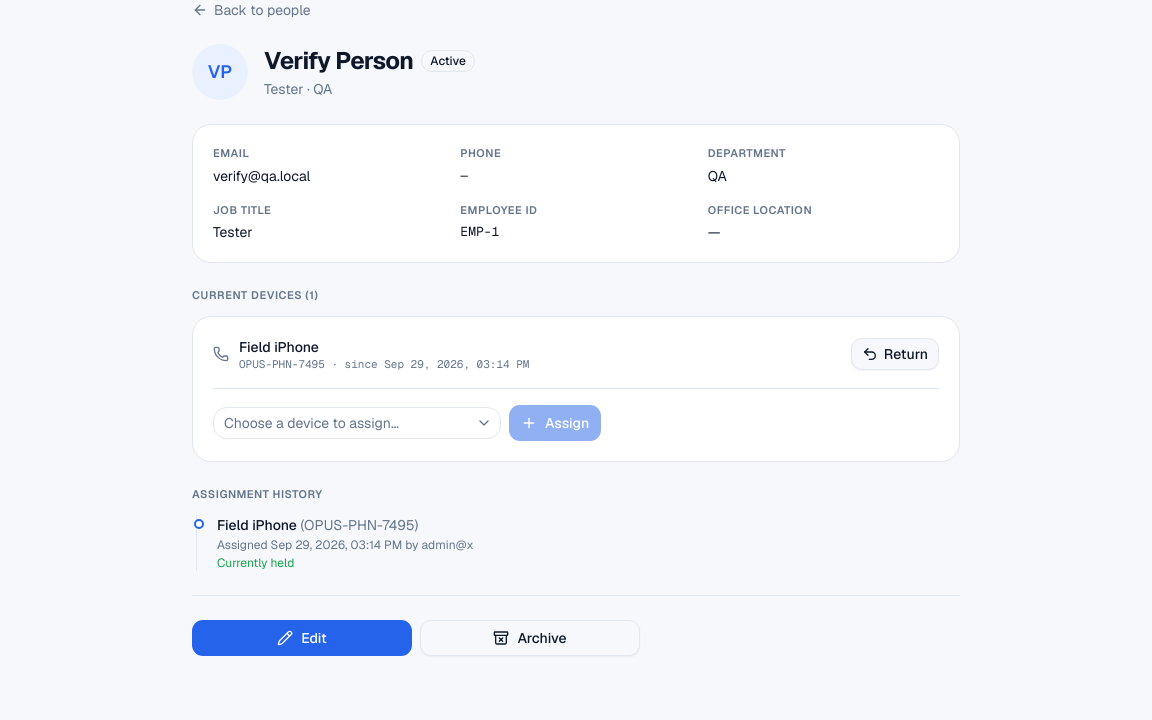
Scenario: PersonDetail — archive confirm (AC-8) › opens a confirmation naming the person before archiving
What coordinates should you click on to do the following:
click the button "Archive"
I would click on:
 (530, 638)
Its box is top-left (420, 620), bottom-right (640, 656).
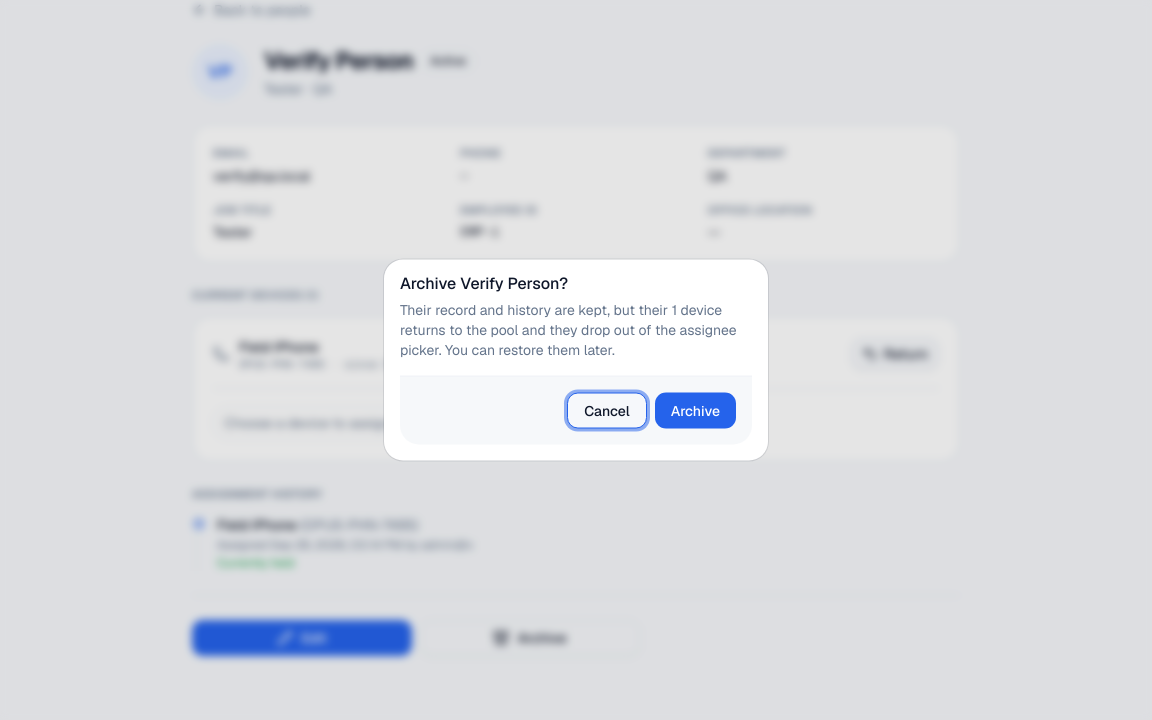
Result: the heading "Archive Verify Person?" is shown at top-left (400, 272), bottom-right (568, 294)
